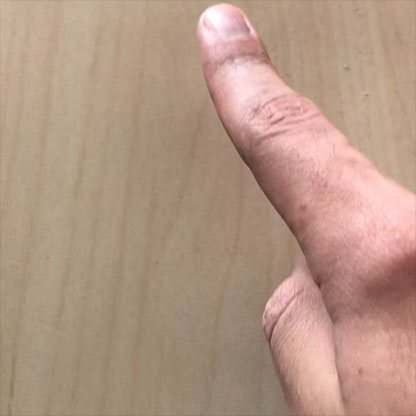fingertip: (184, 1, 268, 57)
